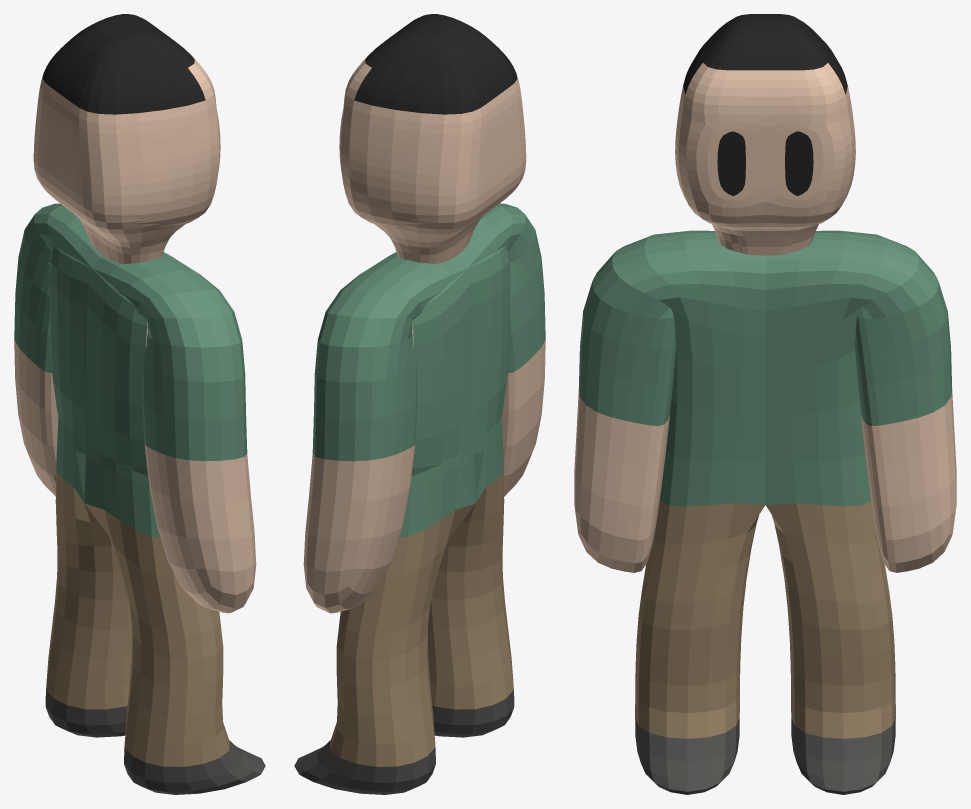
File: NPC.fbx
3 views of the same model, side by side, from view 1: azimuth 30°, elevation 25°; view 2: azimuth 150°, elevation 25°; view 3: azimuth 270°, elevation 25° (orthographic).
Parts seen in each view (by area): view 1: Cube.063; view 2: Cube.063; view 3: Cube.063.
Boxes of the visible parts, left/top/right/bottom form: Cube.063: left=14, top=14, right=265, bottom=794; Cube.063: left=294, top=14, right=545, bottom=794; Cube.063: left=574, top=14, right=956, bottom=794.
Bounding box in the file's own units: 136 × 590 × 280.
